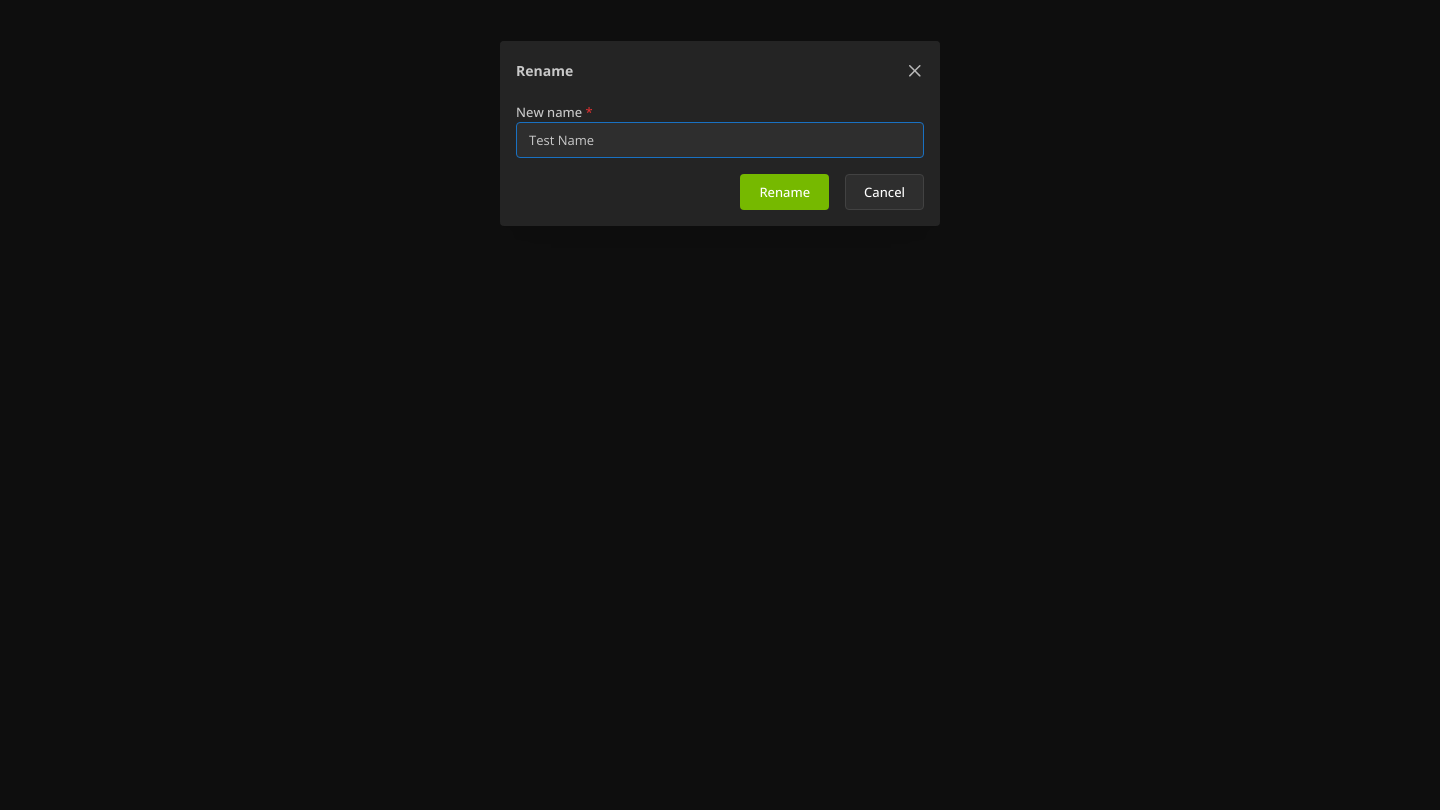
Test: RenameModal › shows validation error when submitting with empty name
This screenshot has width=1440, height=810.
Clear the field labelled "New name *" at (720, 140), box [516,122,924,158]
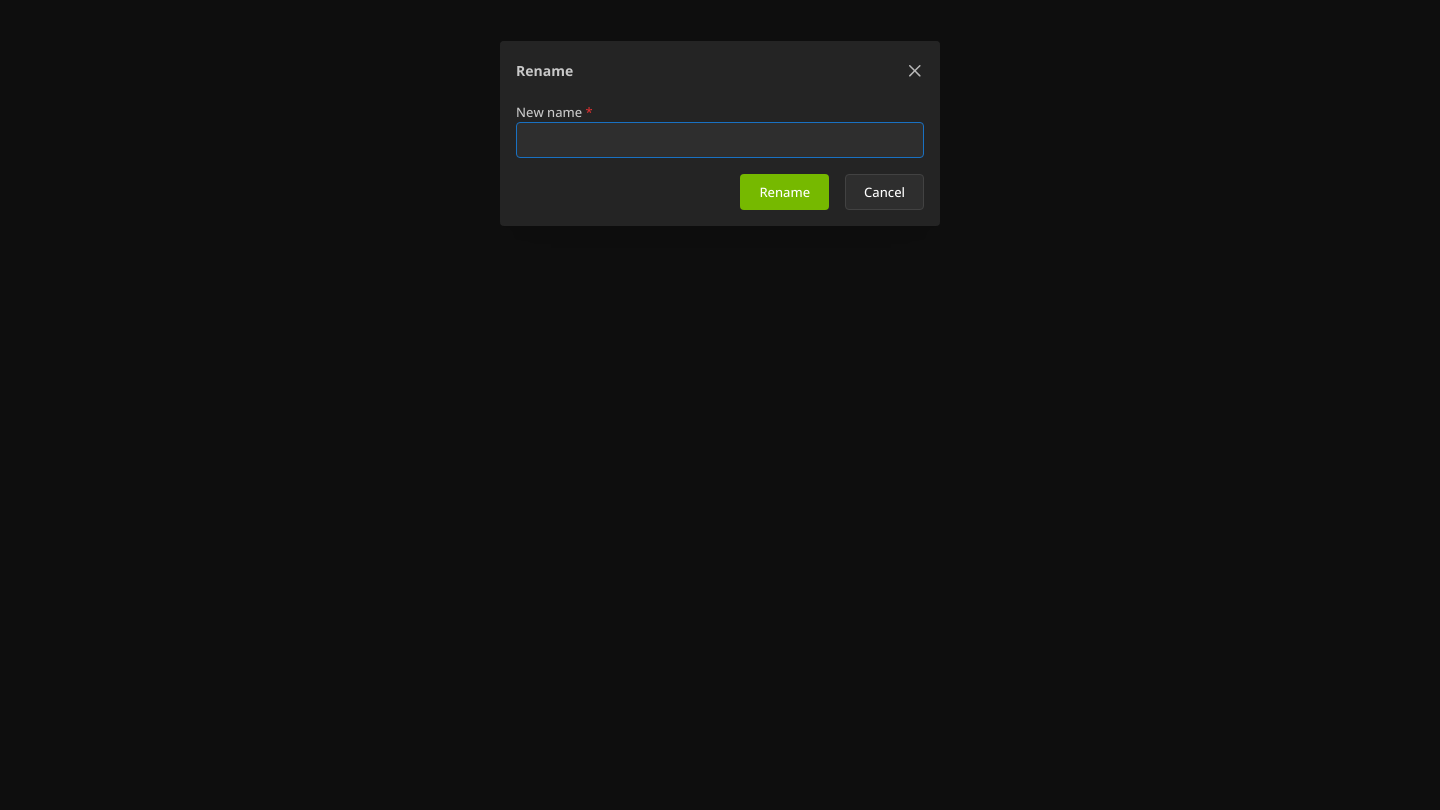
Click the button "Rename" at (785, 192), box [740,174,829,210]
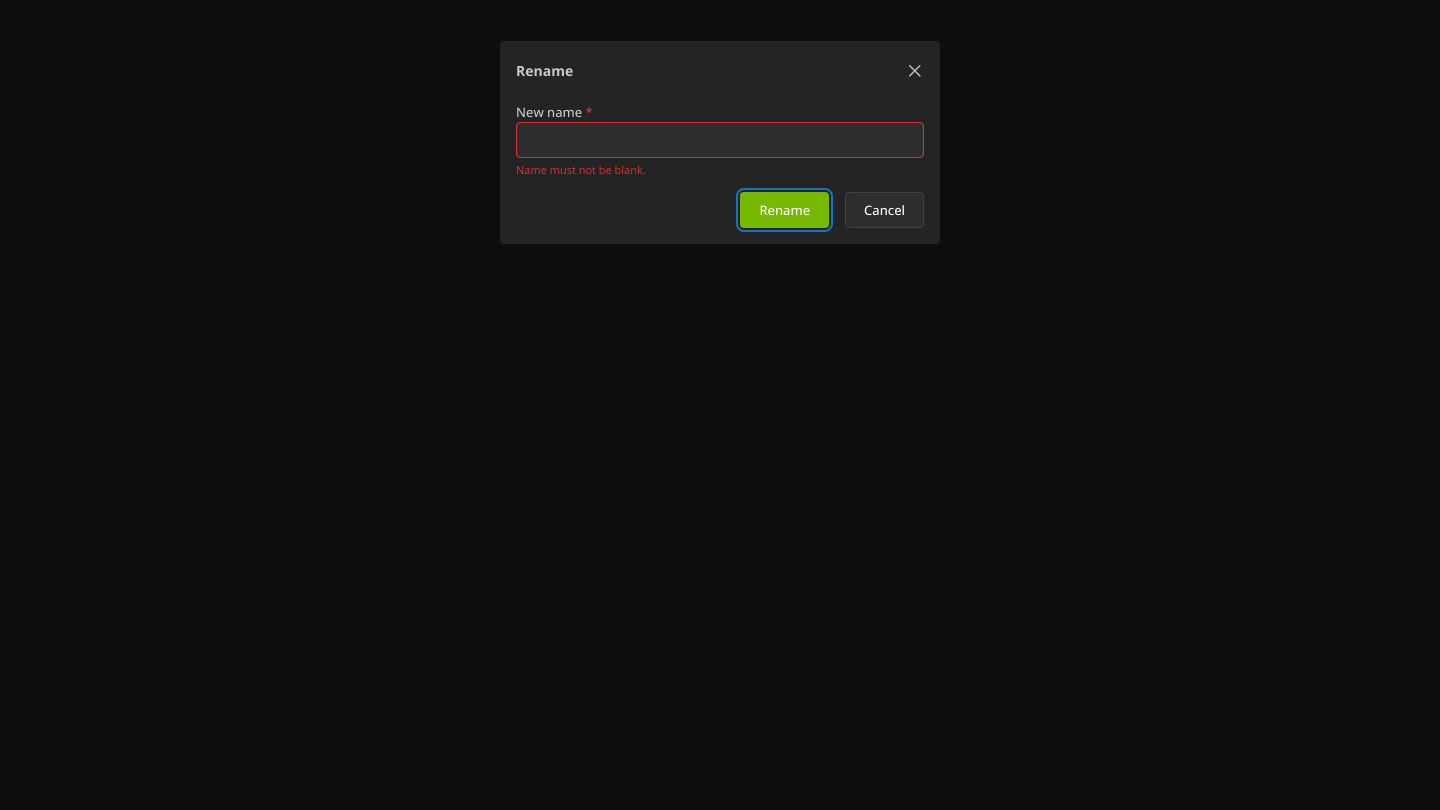
Result: the text "Name must not be blank." is shown at [516,162,646,177]
